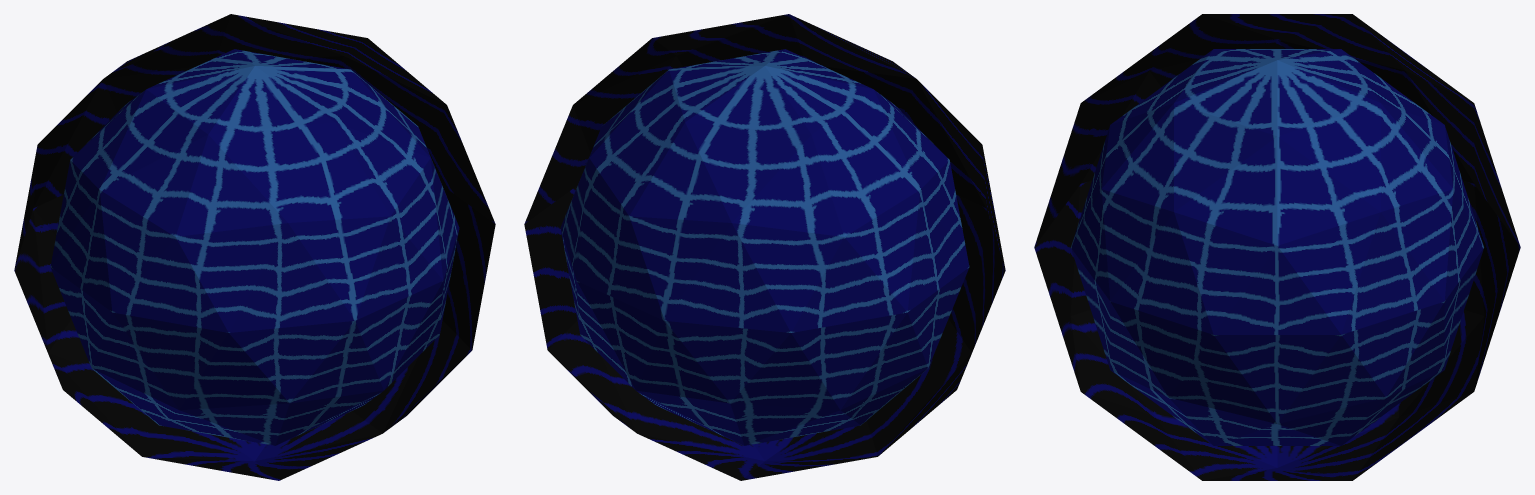
The picture shows the model from 3 angles, left to right: view 1: azimuth 30°, elevation 25°; view 2: azimuth 150°, elevation 25°; view 3: azimuth 270°, elevation 25°; orthographic projection. The views are drawn at different scales.
Visible parts, largest first — view 1: Icosphere.001_Icosphere.002; view 2: Icosphere.001_Icosphere.002; view 3: Icosphere.001_Icosphere.002.
Part boxes in pixels (box(x1,y1,x2,y2)): Icosphere.001_Icosphere.002: box(14, 14, 495, 480); Icosphere.001_Icosphere.002: box(524, 14, 1005, 480); Icosphere.001_Icosphere.002: box(1034, 14, 1520, 480).
Size of the model in its own units: 2 by 2 by 2.
